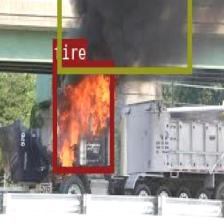fire: (52, 60, 113, 171)
smoke: (57, 0, 190, 71)
